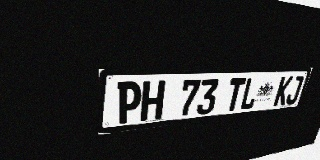3: (196, 79, 219, 115)
7: (177, 79, 201, 117)
H: (140, 80, 166, 122)
J: (285, 76, 304, 105)
K: (273, 76, 293, 106)
L: (239, 77, 261, 110)
P: (116, 81, 142, 124)
T: (224, 78, 246, 112)
